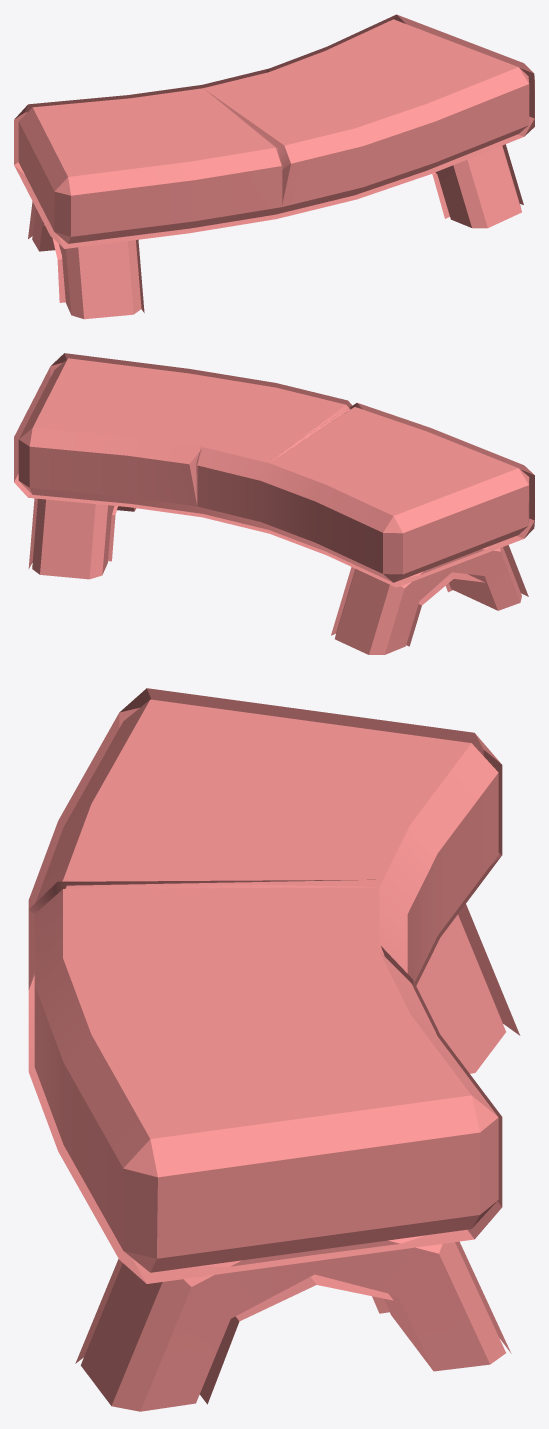
Rendered from entity439602.gltf.
3 views of the same model, one above another, from view 1: azimuth 30°, elevation 25°; view 2: azimuth 150°, elevation 25°; view 3: azimuth 270°, elevation 25° (orthographic). The views are drawn at different scales.
Visible parts, largest first — view 1: node_bank1; view 2: node_bank1; view 3: node_bank1.
Part boxes in pixels (box(x1,y1,x2,y2)): node_bank1: box(14, 14, 534, 319); node_bank1: box(14, 353, 534, 654); node_bank1: box(28, 688, 520, 1411).
Size of the model in its own units: 758 by 213 by 333.
